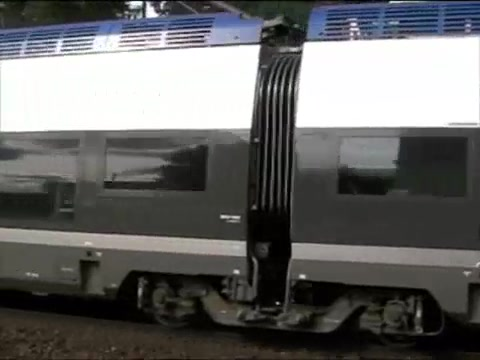train: (1, 1, 480, 341)
